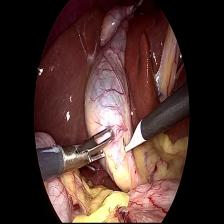Grasper: (61, 124, 116, 178)
Hook: (122, 119, 151, 162)
